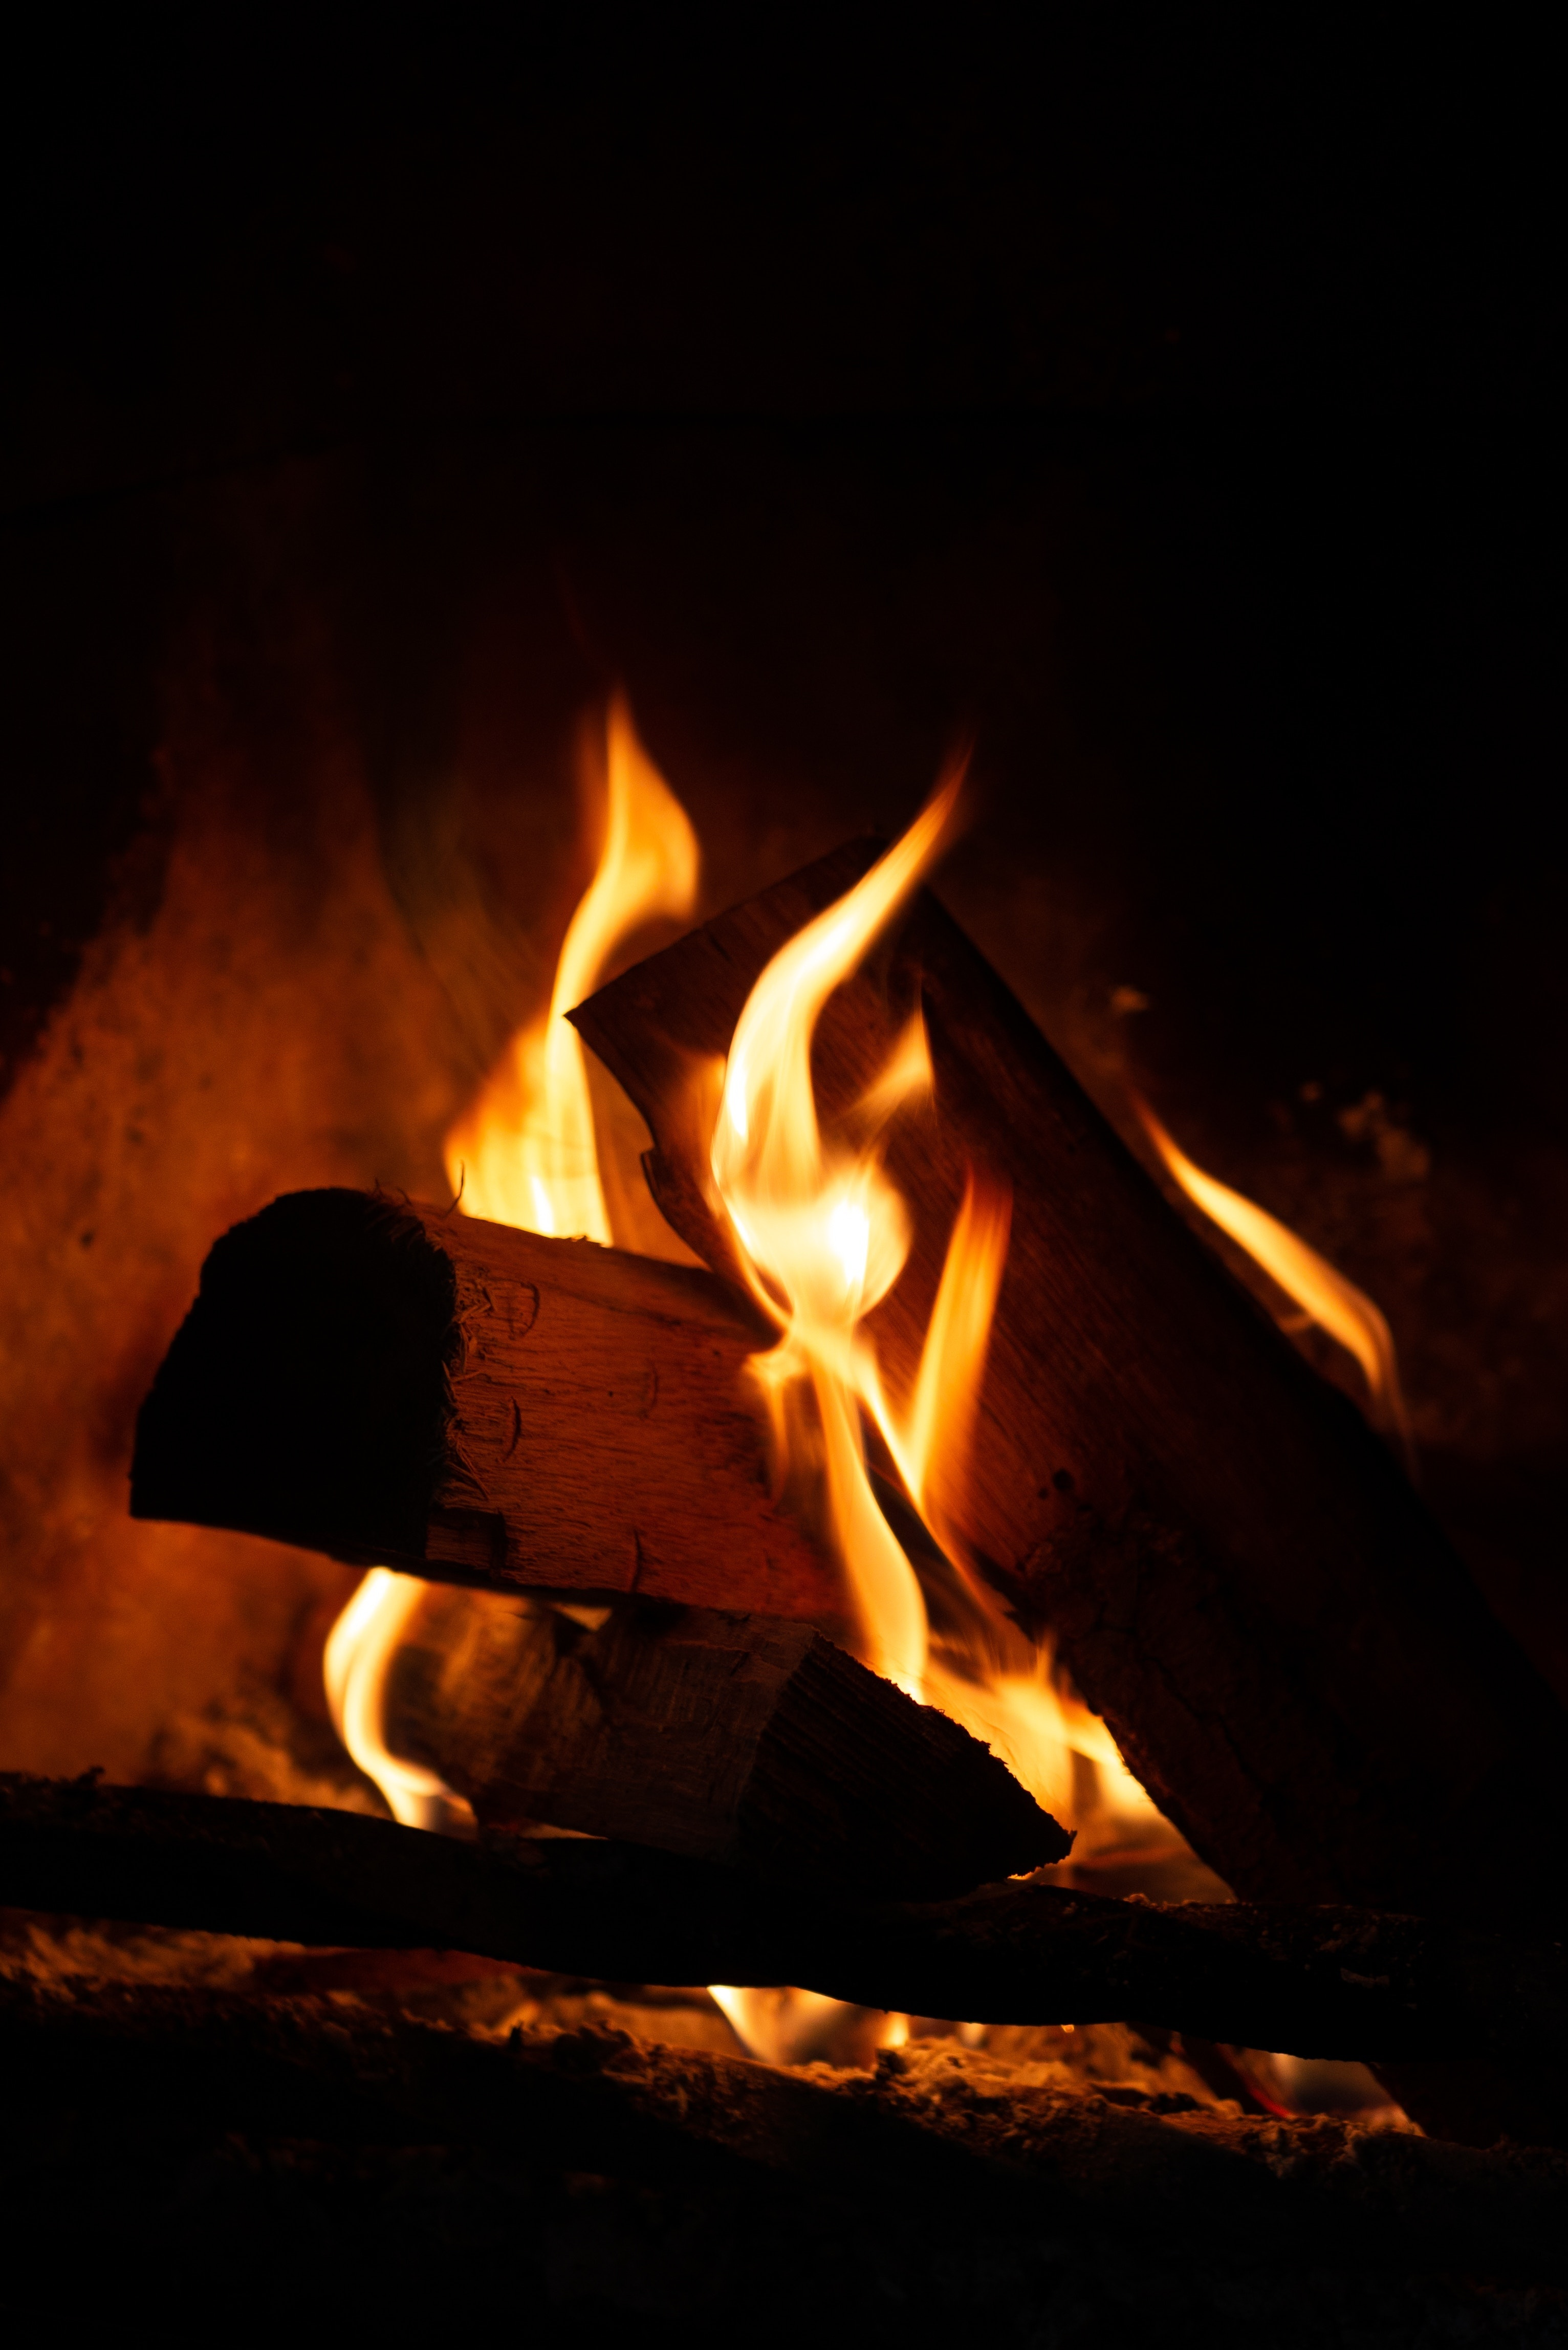fire: (186, 640, 1283, 2004)
